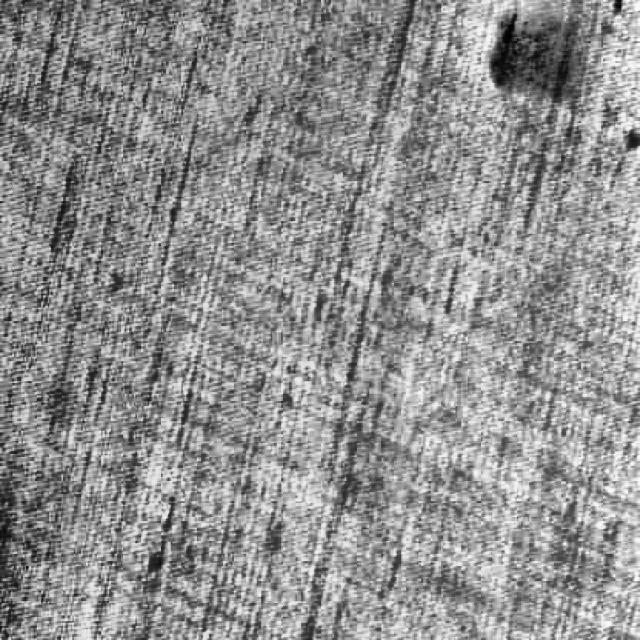oil_spot: (486, 1, 640, 144)
